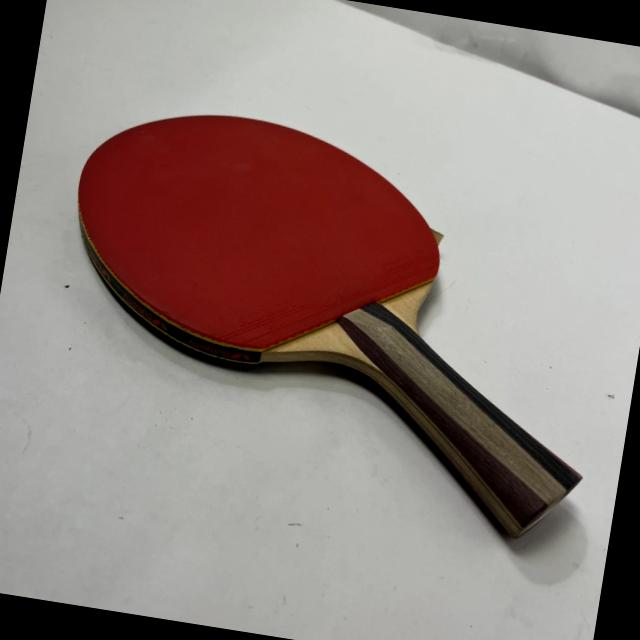TT Racket: (23, 0, 561, 478)
